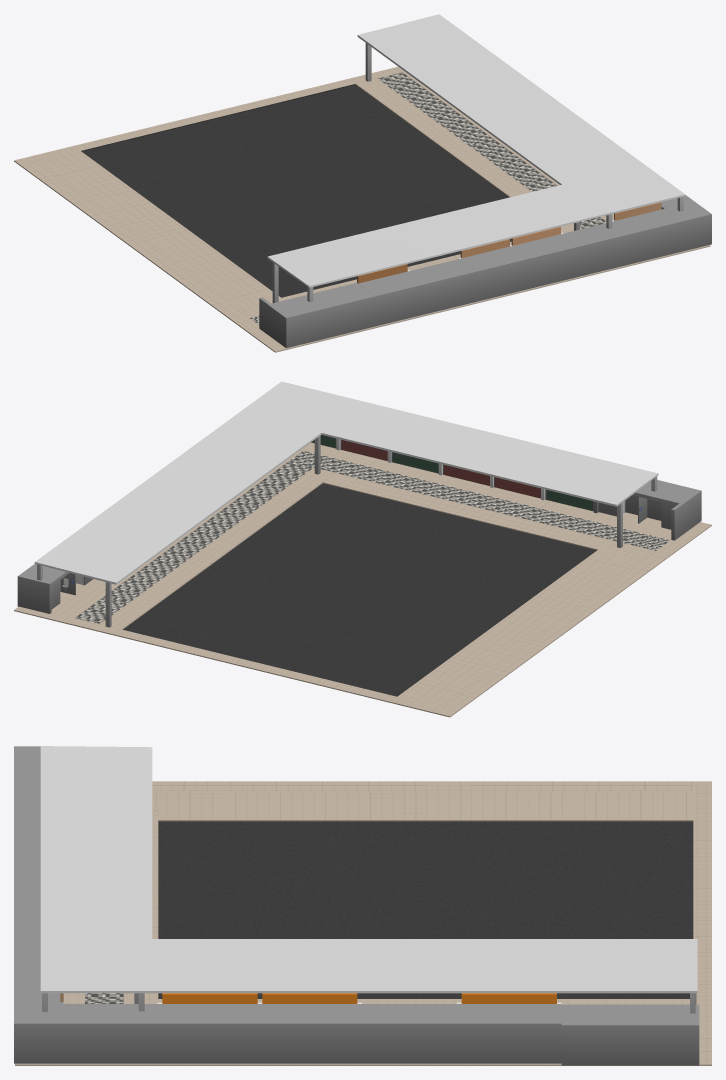
The model's file is KantinEnviroment.fbx.
3 renders of one model, top to bottom at view 1: azimuth 30°, elevation 25°; view 2: azimuth 150°, elevation 25°; view 3: azimuth 270°, elevation 25°, orthographic. The views are drawn at different scales.
Parts seen in each view (by area): view 1: KantinPlane, AtapKantin, Kantin, KantinBackup, TiangKantin2; view 2: KantinPlane, AtapKantin, KantinBackup, Kantin, TiangKantin2; view 3: KantinPlane, AtapKantin, Kantin, KantinBackup.
Boxes of the visible parts, <box> form: KantinPlane: <box>14,66,710,352</box>; AtapKantin: <box>267,14,685,287</box>; Kantin: <box>358,195,711,326</box>; KantinBackup: <box>259,202,661,348</box>; TiangKantin2: <box>272,43,579,303</box>; KantinPlane: <box>14,442,711,717</box>; AtapKantin: <box>34,381,658,584</box>; KantinBackup: <box>17,480,701,613</box>; Kantin: <box>311,435,593,511</box>; TiangKantin2: <box>105,435,622,627</box>; KantinPlane: <box>15,781,711,1065</box>; AtapKantin: <box>40,746,697,993</box>; Kantin: <box>14,804,561,1063</box>; KantinBackup: <box>14,746,699,1065</box>.
Size of what is drawn, in the model's own units: 6852 by 739 by 7118.
